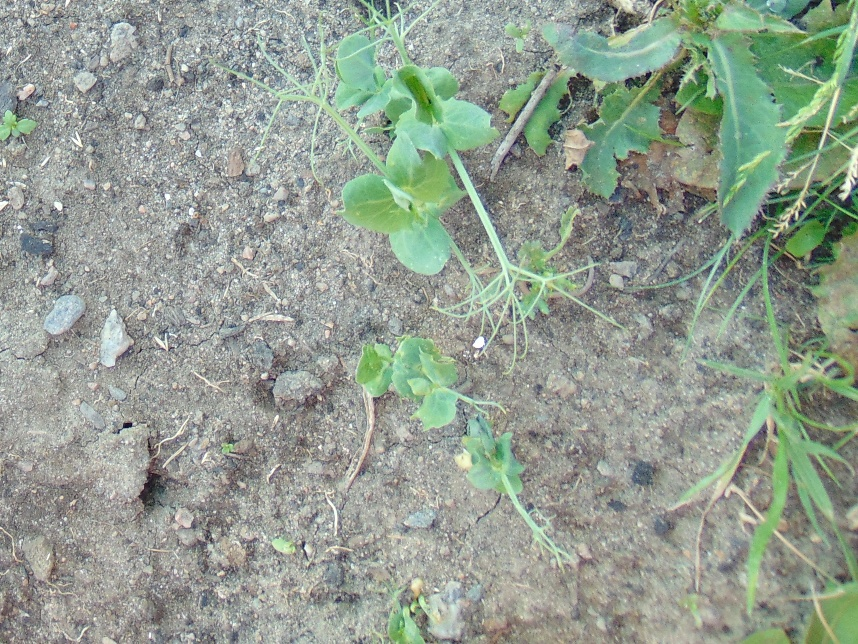crop: (296, 10, 546, 328), (344, 326, 504, 428), (459, 417, 567, 557), (380, 577, 449, 644)
weed: (504, 1, 858, 231), (682, 214, 858, 644), (1, 108, 35, 145)
